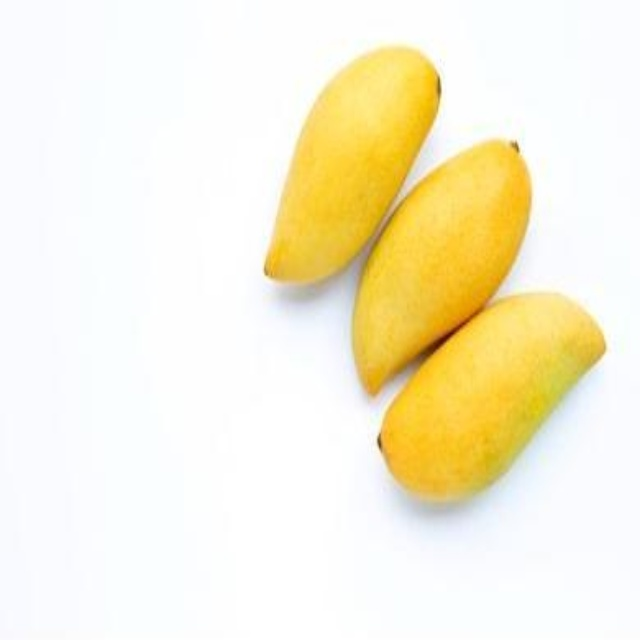mango: (380, 295, 611, 512), (267, 41, 438, 283), (363, 129, 523, 383)
